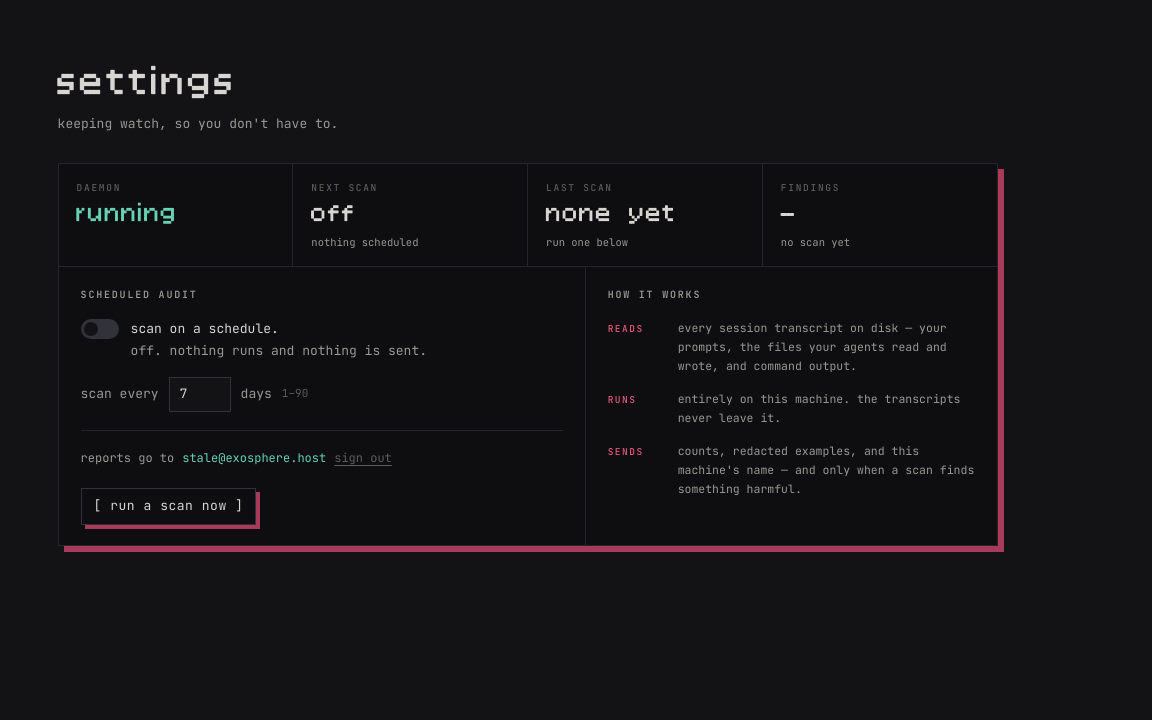
it: the switch › opens the sign-in dialog when the server rejects the stored session
Click the switch named "turn on scheduled audits".
click(100, 329)  # box left=81, top=319, right=119, bottom=339
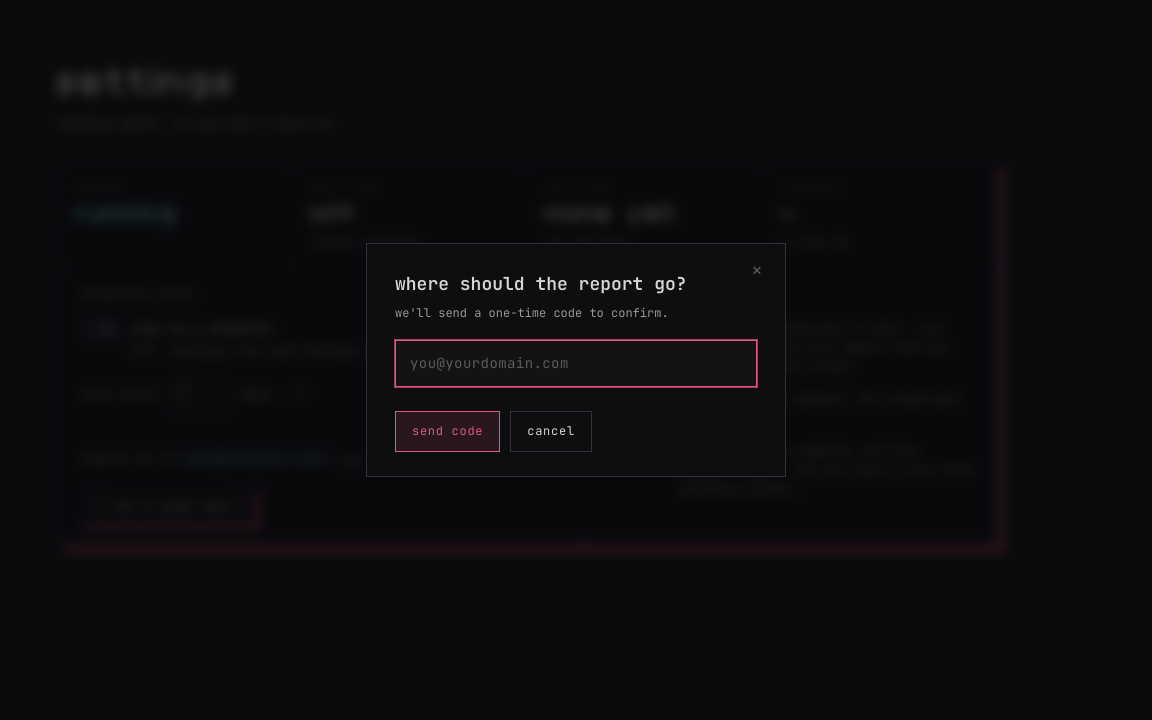
Now the heading "where should the report go?" is shown, box left=395, top=272, right=687, bottom=295
